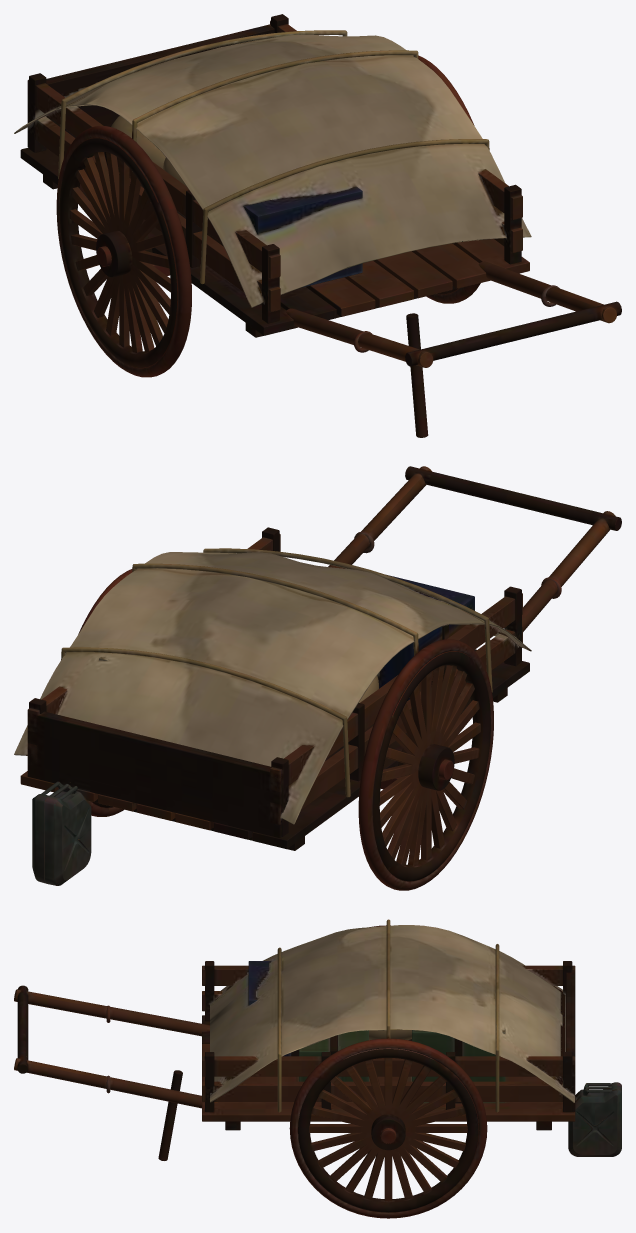
The model's file is caravan_cart.glb.
3 renders of one model, top to bottom at view 1: azimuth 30°, elevation 25°; view 2: azimuth 150°, elevation 25°; view 3: azimuth 270°, elevation 25°, orthographic. The views are drawn at different scales.
Visible parts, largest first — view 1: caravan_cart; view 2: caravan_cart; view 3: caravan_cart.
Boxes of the visible parts, x1=… form: caravan_cart: x1=14, y1=14, x2=621, y2=437; caravan_cart: x1=14, y1=466, x2=621, y2=890; caravan_cart: x1=14, y1=919, x2=621, y2=1218.
Bounding box in the file's own units: 1.98 × 1.45 × 3.91.
Materials: 1 (1 with a texture image).
